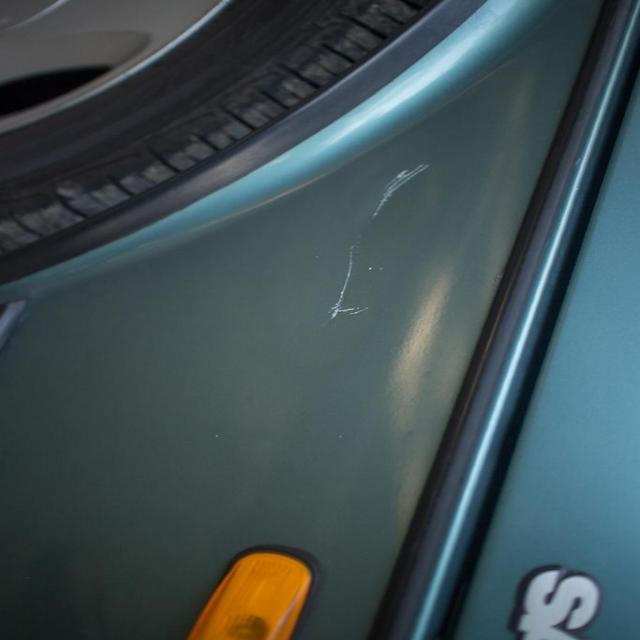scratch: (301, 155, 450, 334)
